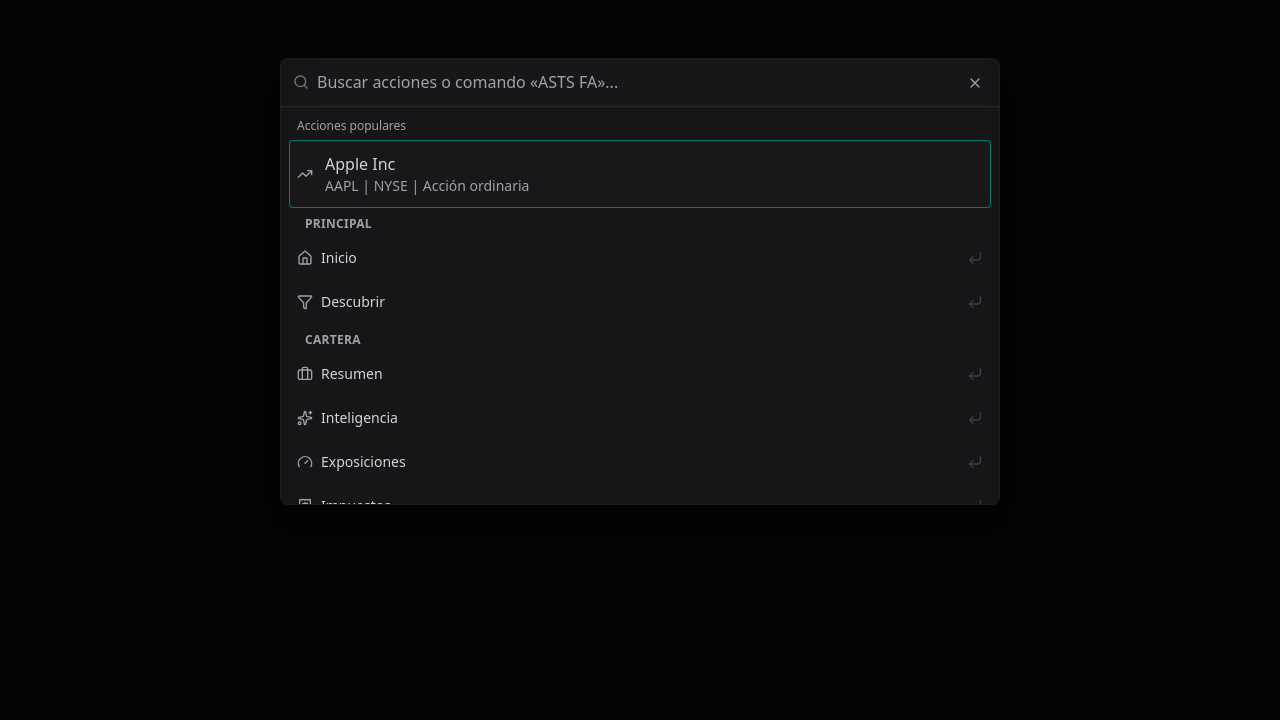
buscador global: ir a la ficha por símbolo › con la ficha directa como única salida no dice «Sin resultados» encima
The width and height of the screenshot is (1280, 720).
Type "ko" into the dropdown named "Buscar acciones o secciones" at (652, 82), box [317,58,987,106]
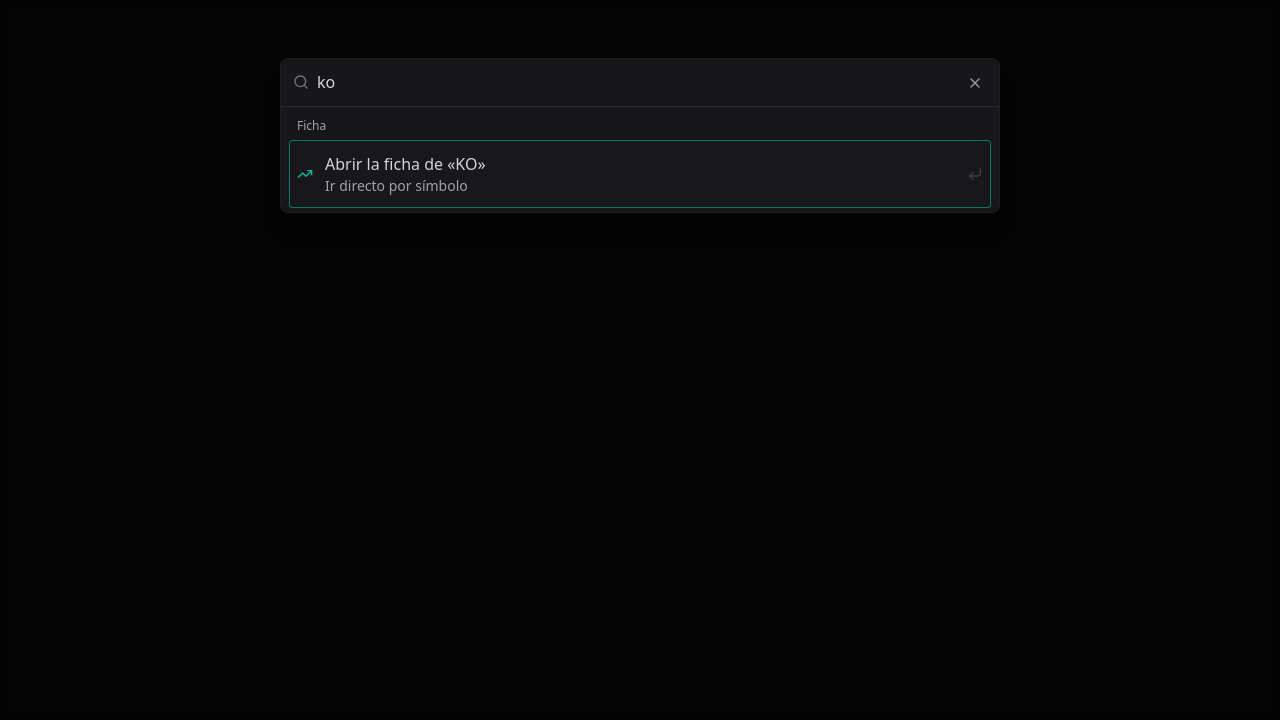
Now the option "Abrir la ficha de «KO» Ir directo por símbolo" is shown, box [289,140,991,208]
